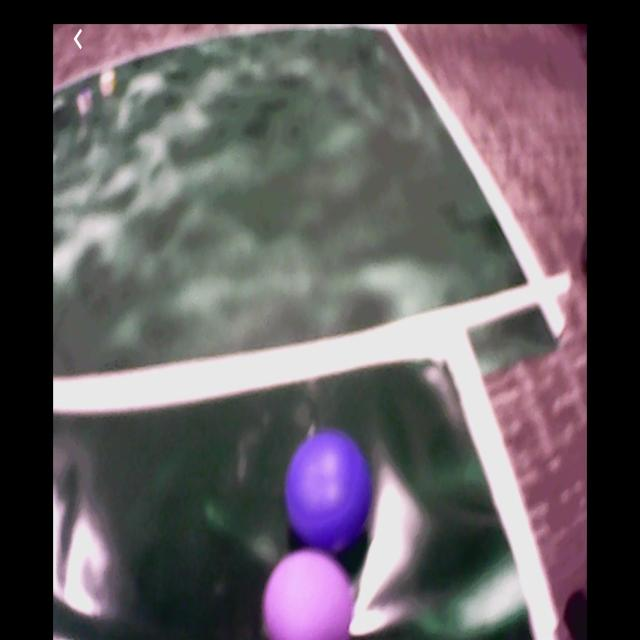ball: (285, 433, 370, 547), (260, 553, 354, 640)
